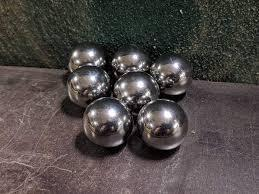steelball: (138, 96, 193, 157), (79, 95, 133, 153), (107, 70, 166, 118), (66, 64, 116, 111), (66, 32, 113, 79), (153, 46, 191, 101), (108, 46, 151, 80)
